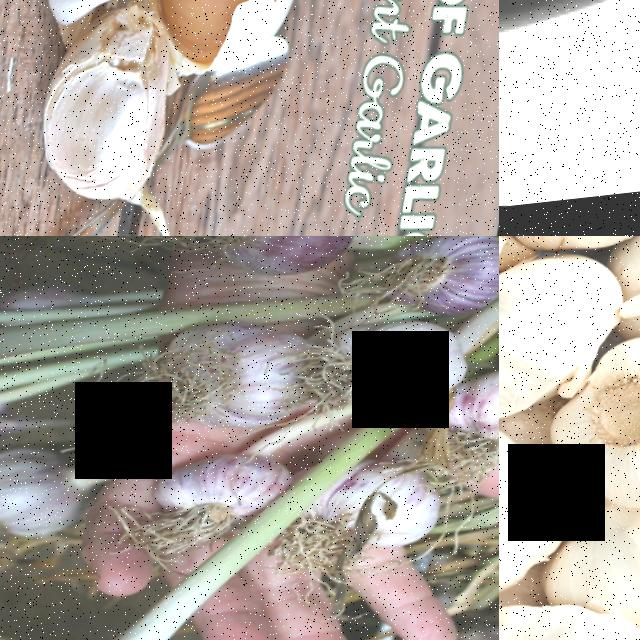eggplant: (499, 0, 640, 110)
garlic: (37, 6, 189, 209), (499, 249, 633, 442), (180, 313, 326, 444), (499, 415, 583, 626), (557, 330, 640, 532), (337, 317, 479, 435), (156, 0, 304, 83), (0, 433, 96, 551), (386, 236, 499, 335), (451, 366, 499, 483)
